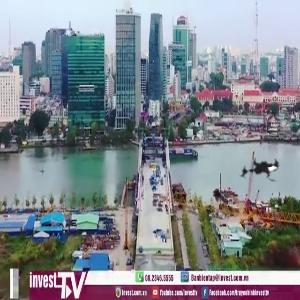drone: (230, 142, 294, 206)
